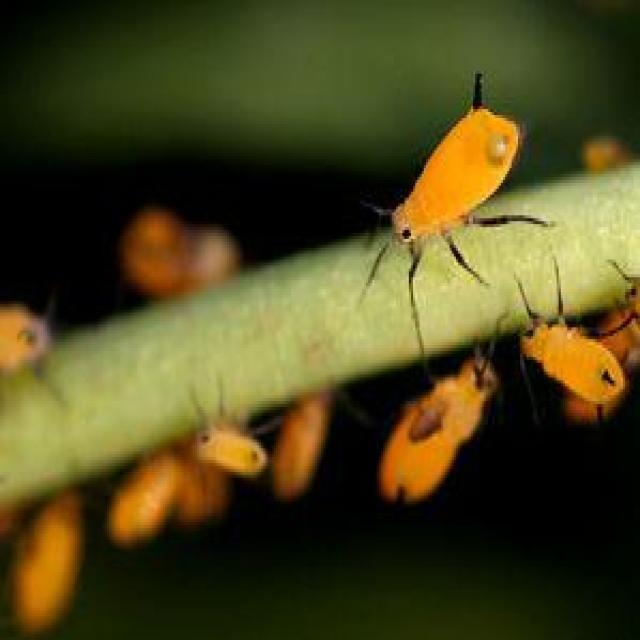Aphids: (346, 75, 566, 308), (497, 266, 639, 420)
